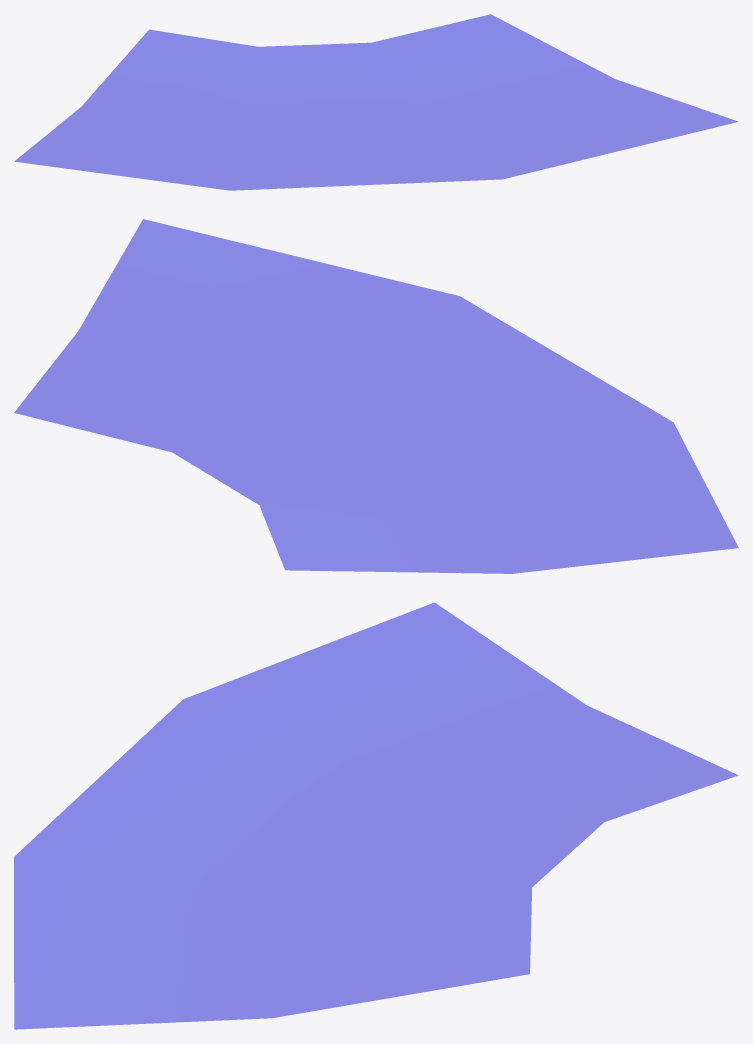
The model's file is track_la_coll_road_53.fbx.
3 views of the same model, one above another, from view 1: azimuth 30°, elevation 25°; view 2: azimuth 150°, elevation 25°; view 3: azimuth 270°, elevation 25° (orthographic). The views are drawn at different scales.
Visible parts, largest first — view 1: track_la_coll_road_53; view 2: track_la_coll_road_53; view 3: track_la_coll_road_53.
Boxes of the visible parts, x1=… form: track_la_coll_road_53: x1=14, y1=14, x2=737, y2=190; track_la_coll_road_53: x1=14, y1=219, x2=738, y2=573; track_la_coll_road_53: x1=14, y1=602, x2=738, y2=1029.
Size of the model in its own units: 42.67 by 0.7636 by 30.6.
